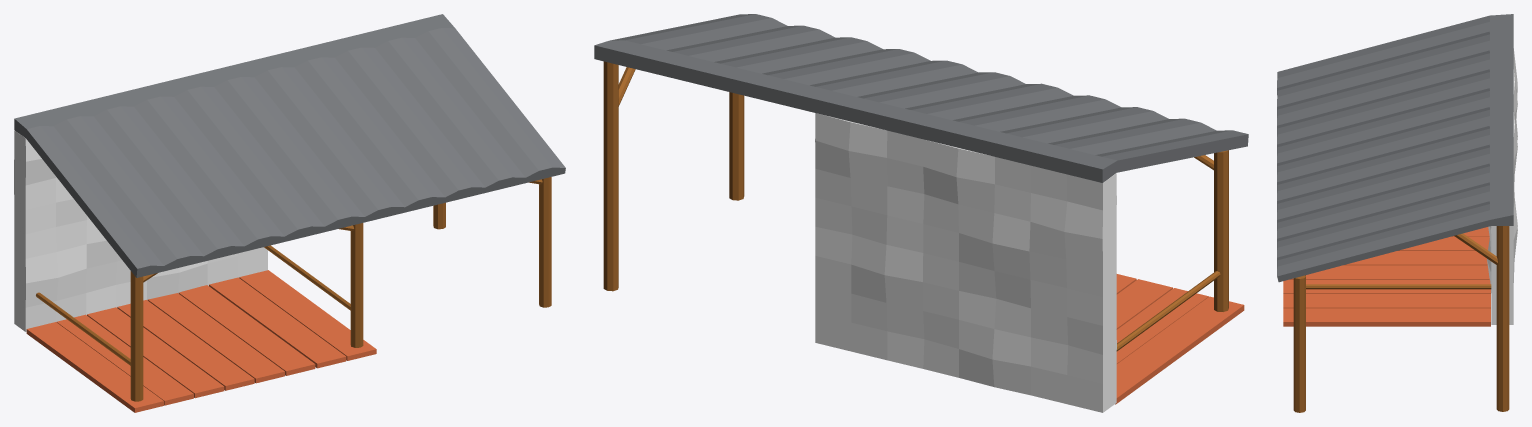
The model's file is grange.fbx.
The picture shows the model from 3 angles, left to right: view 1: azimuth 30°, elevation 25°; view 2: azimuth 150°, elevation 25°; view 3: azimuth 270°, elevation 25°; orthographic projection. The views are drawn at different scales.
Parts seen in each view (by area): view 1: Toit, Planches, Mur, Grands poteaux, Rembarde; view 2: Mur, Toit, Planches, Grands poteaux, Rembarde; view 3: Toit, Planches, Grands poteaux, Mur, Rembarde, Petits poteaux.
Part boxes in pixels (x1,y1,x2,y2): Toit: [14, 14, 565, 277]; Planches: [26, 270, 376, 412]; Mur: [14, 130, 267, 331]; Grands poteaux: [130, 177, 551, 401]; Rembarde: [36, 245, 350, 365]; Mur: [815, 113, 1116, 412]; Toit: [594, 14, 1248, 182]; Planches: [1115, 274, 1244, 404]; Grands poteaux: [603, 61, 1228, 311]; Rembarde: [1116, 271, 1220, 351]; Toit: [1277, 14, 1513, 282]; Planches: [1283, 227, 1490, 326]; Grands poteaux: [1293, 226, 1509, 412]; Mur: [1487, 48, 1517, 324]; Rembarde: [1306, 284, 1491, 289]; Petits poteaux: [1454, 233, 1497, 265].
Bounding box in the file's own units: 458 × 212 × 232.
